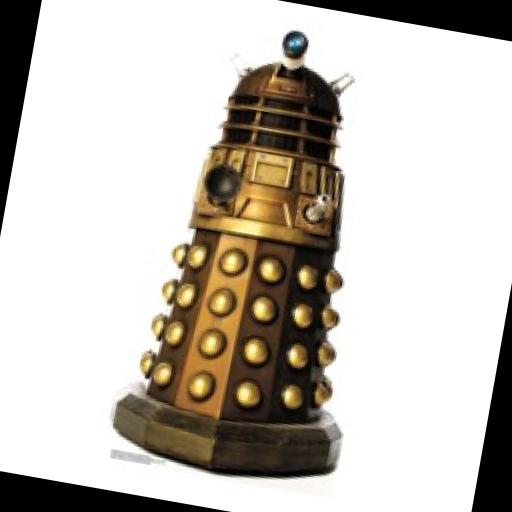dalek: (88, 2, 420, 495)
